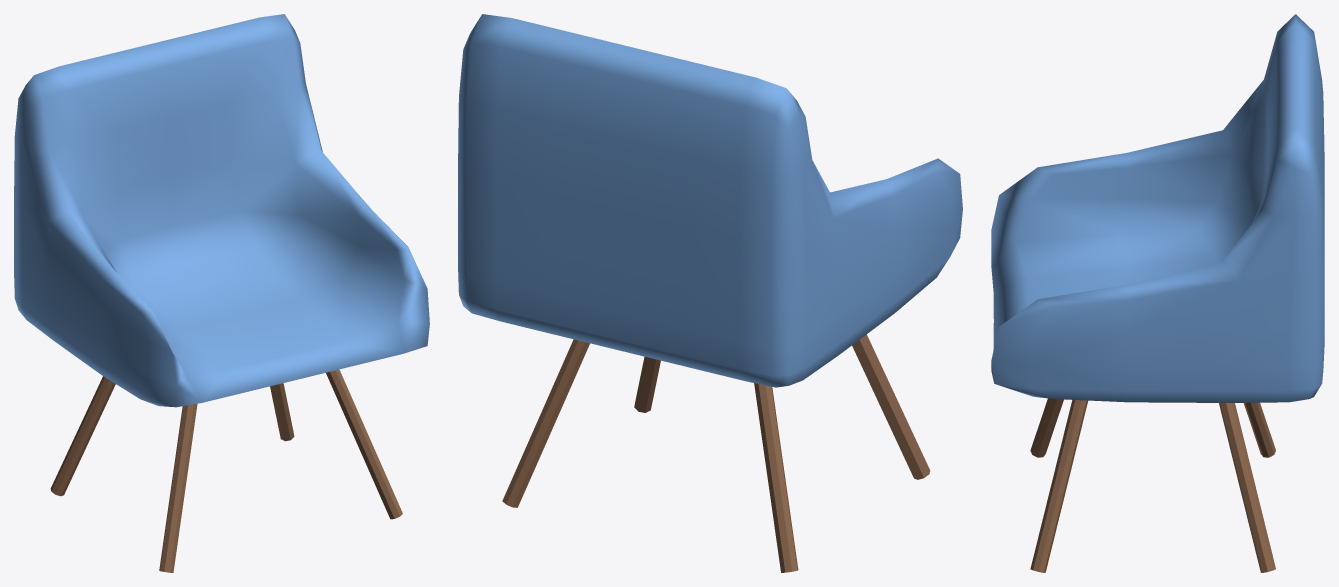
Rendered from le_rufchair.glb.
The picture shows the model from 3 angles, left to right: view 1: azimuth 30°, elevation 25°; view 2: azimuth 150°, elevation 25°; view 3: azimuth 270°, elevation 25°; orthographic projection. The views are drawn at different scales.
Parts seen in each view (by area): view 1: Cylinder; view 2: Cylinder; view 3: Cylinder.
Part boxes in pixels (x1,y1,x2,y2): Cylinder: (14,14,429,572); Cylinder: (458,14,962,572); Cylinder: (991,14,1324,572).
Size of the model in its own units: 2 by 2.83 by 1.94.
